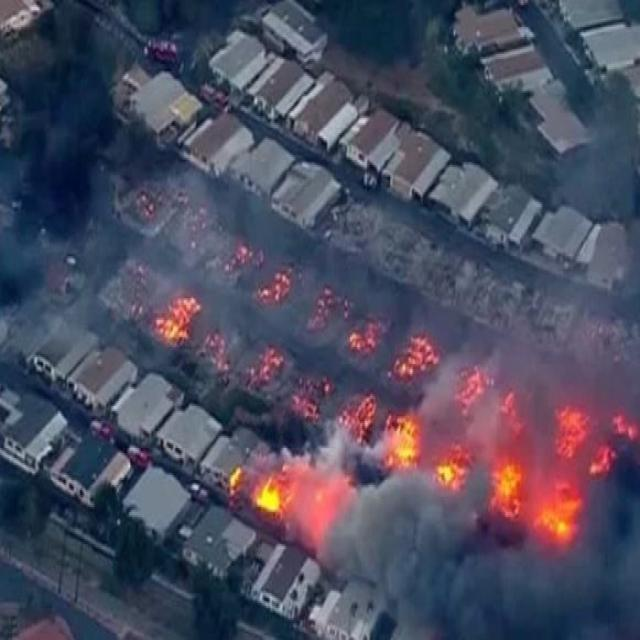Fire: (394, 327, 443, 396), (155, 293, 200, 349), (488, 458, 528, 520), (388, 412, 424, 476), (557, 403, 595, 462), (459, 358, 494, 422), (544, 490, 582, 545), (334, 396, 379, 442), (340, 319, 387, 362), (430, 448, 471, 496), (256, 264, 300, 308), (247, 477, 293, 519), (499, 389, 527, 443), (204, 328, 232, 379), (251, 344, 284, 386), (592, 443, 620, 482), (293, 391, 320, 426), (608, 412, 640, 440), (228, 465, 241, 504), (228, 246, 253, 257)
Smoke: (314, 476, 637, 640)
